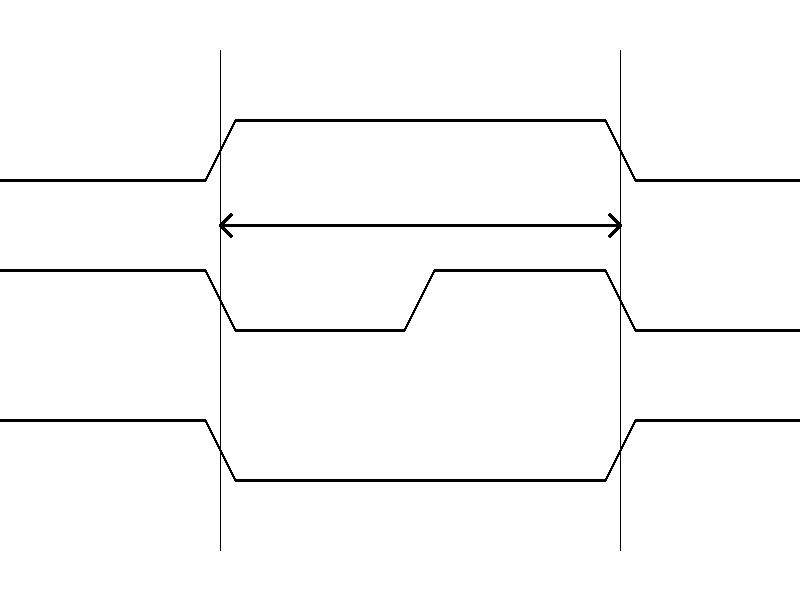double_arrow: (220, 210, 620, 240)
